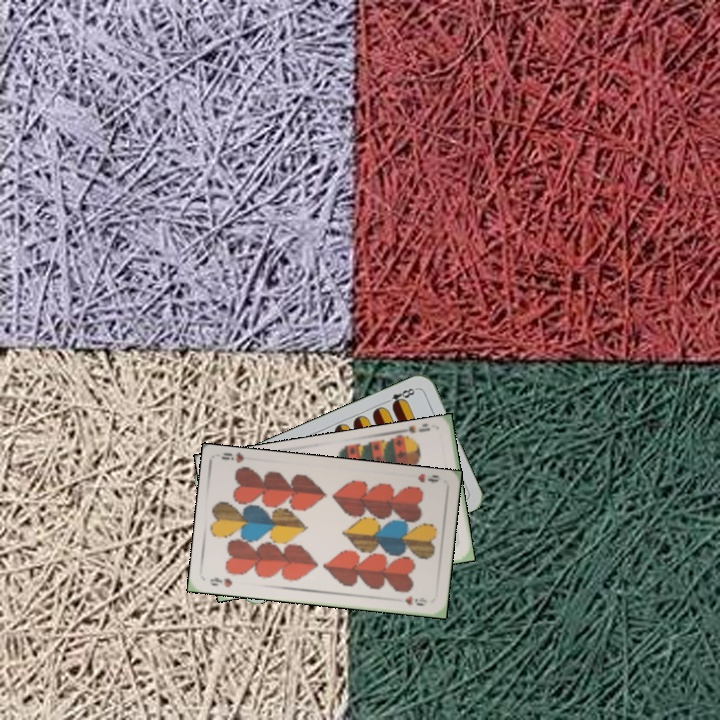E8: (381, 384, 420, 409)
H9: (206, 573, 235, 589), (414, 470, 441, 485)
S9: (397, 421, 433, 444)
